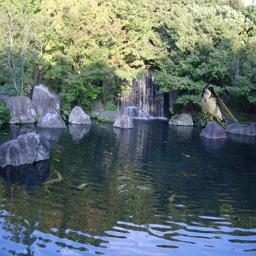Swallow: (199, 83, 239, 127)
